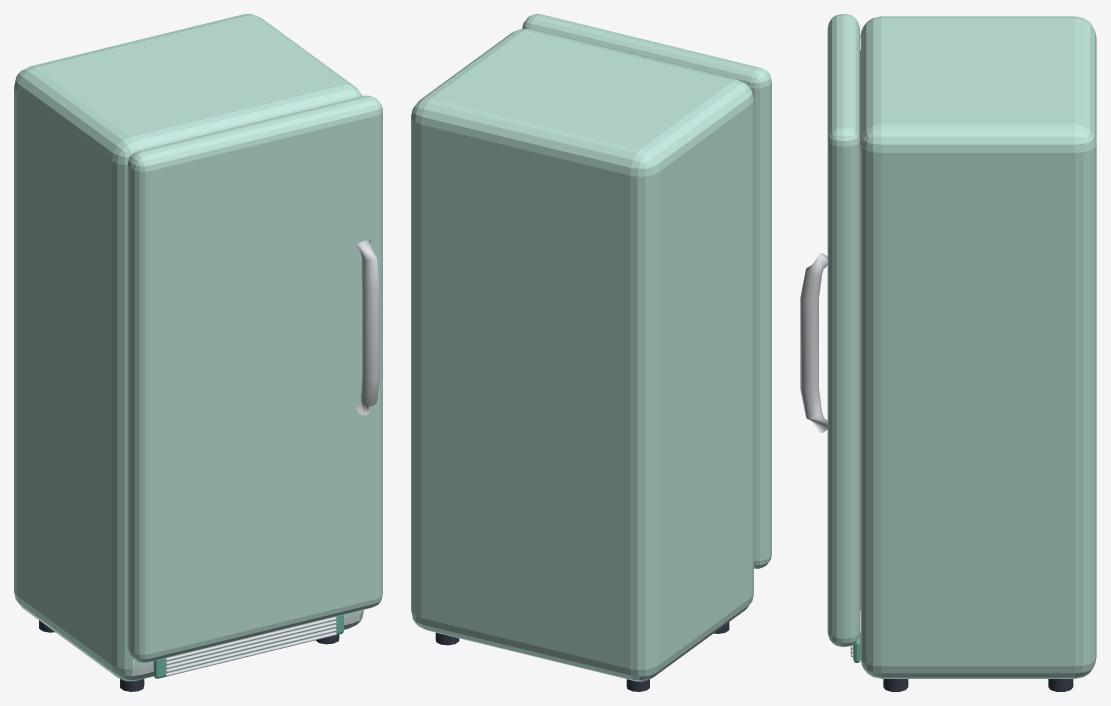
Rendered from geladeira.glb.
3 renders of one model, left to right at view 1: azimuth 30°, elevation 25°; view 2: azimuth 150°, elevation 25°; view 3: azimuth 270°, elevation 25°, orthographic. The views are drawn at different scales.
Parts seen in each view (by area): view 1: porta, geladeira; view 2: geladeira, porta; view 3: geladeira, porta.
Part boxes in pixels (x1,y1,x2,y2): porta: [127, 95, 382, 662]; geladeira: [14, 14, 363, 691]; geladeira: [411, 28, 753, 691]; porta: [522, 14, 771, 568]; geladeira: [850, 16, 1096, 691]; porta: [800, 14, 860, 646].
Size of the model in its own units: 0.82 by 1.75 by 0.826.
